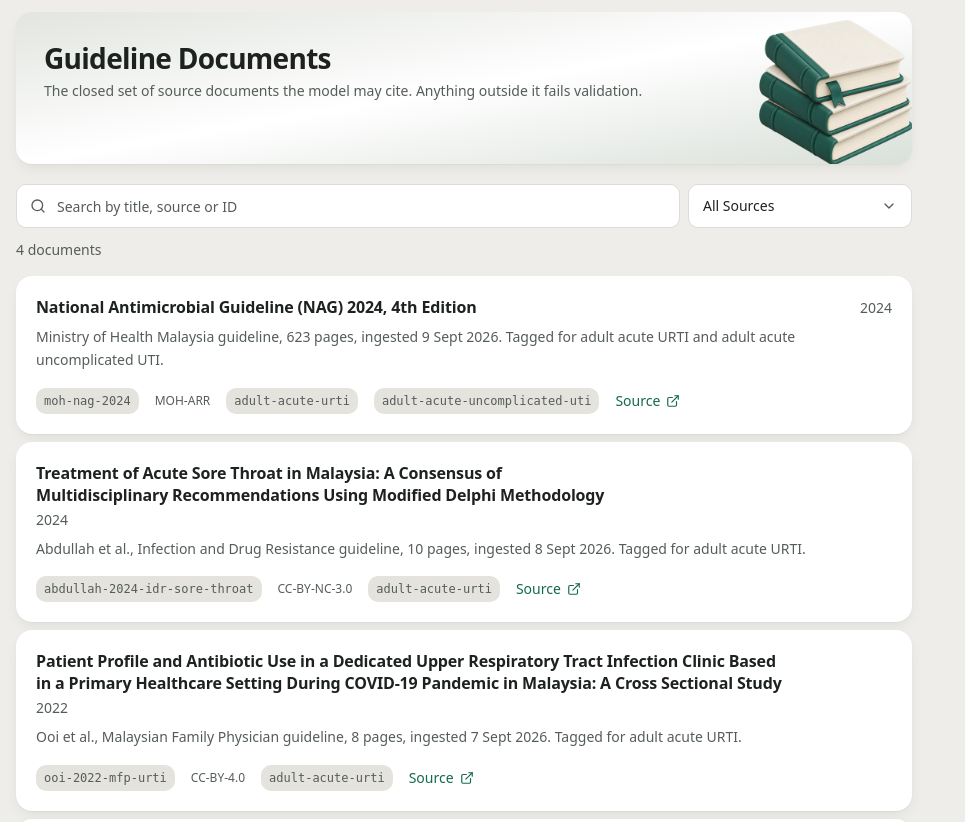
Test: the document list › filters to only Ooi et al., Malaysian Family Physician documents
The image size is (965, 822).
Expected: the heading "National Antimicrobial Guideline (NAG) 2024, 4th Edition" is shown, [36,296,476,318]
Click the button named "Filter by source" at (800, 206), box [688,184,912,228]
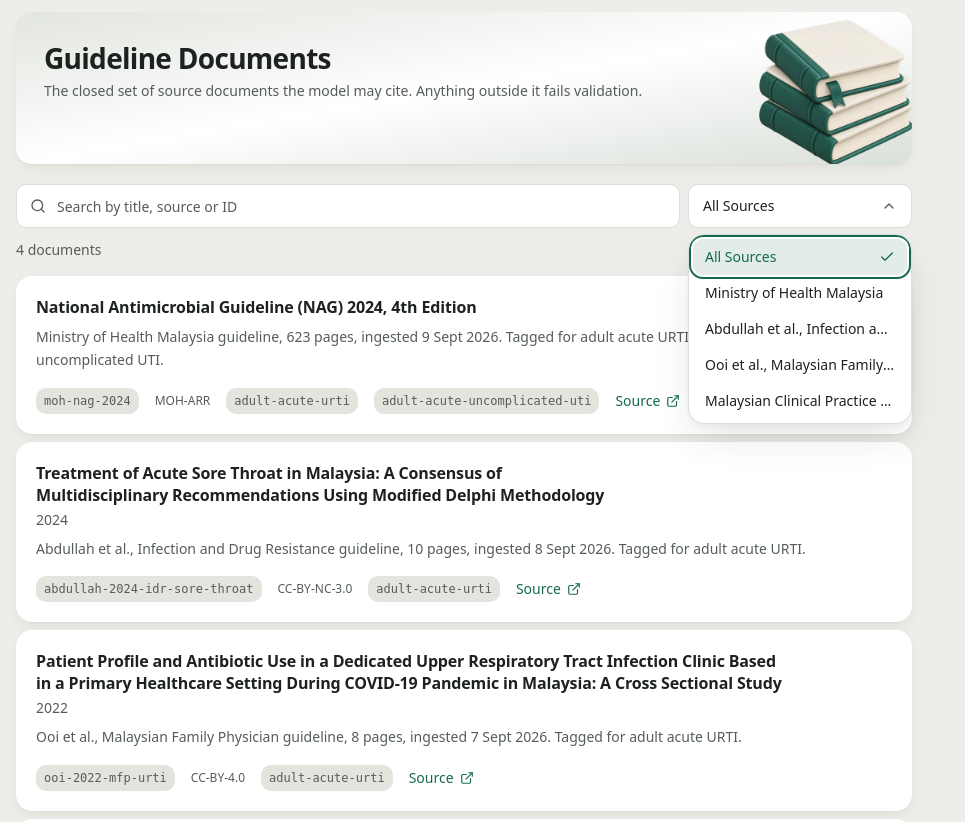
Click the option "Ooi et al., Malaysian Family Physician" at (827, 364), box [705,355,948,374]
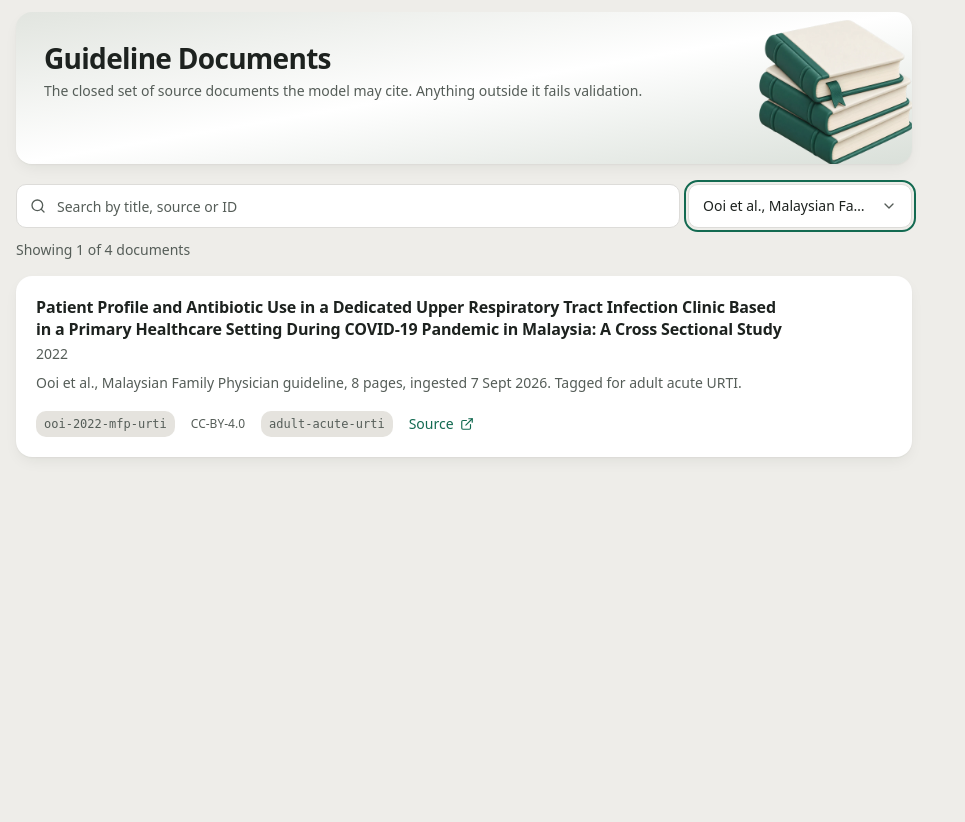
Expected: the heading "Patient Profile and Antibiotic Use in a Dedicated Upper Respiratory Tract Infection Clinic Based in a Primary Healthcare" is shown, [36,296,782,340]
Expected: the heading "National Antimicrobial Guideline (NAG) 2024, 4th Edition" is gone
Expected: the heading "Treatment of Acute Sore Throat in Malaysia: A Consensus of Multidisciplinary Recommendations Using Modified Delphi Metho" is gone
